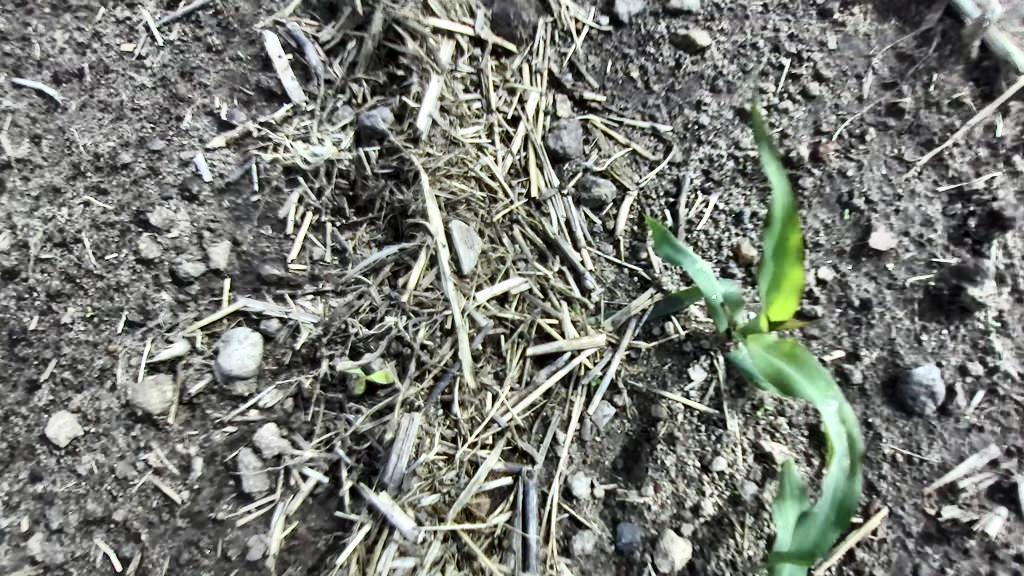BroWeed: (343, 355, 395, 397), (985, 326, 1010, 360), (982, 310, 1003, 331), (753, 401, 773, 417), (571, 302, 583, 316), (589, 377, 602, 388), (842, 207, 852, 221), (85, 306, 93, 319), (748, 310, 757, 320), (227, 291, 235, 299), (731, 490, 740, 495)
Maize: (592, 81, 892, 576), (767, 458, 810, 576)
